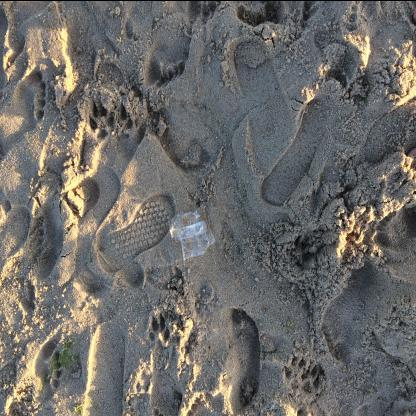plastik: (167, 204, 216, 260)
